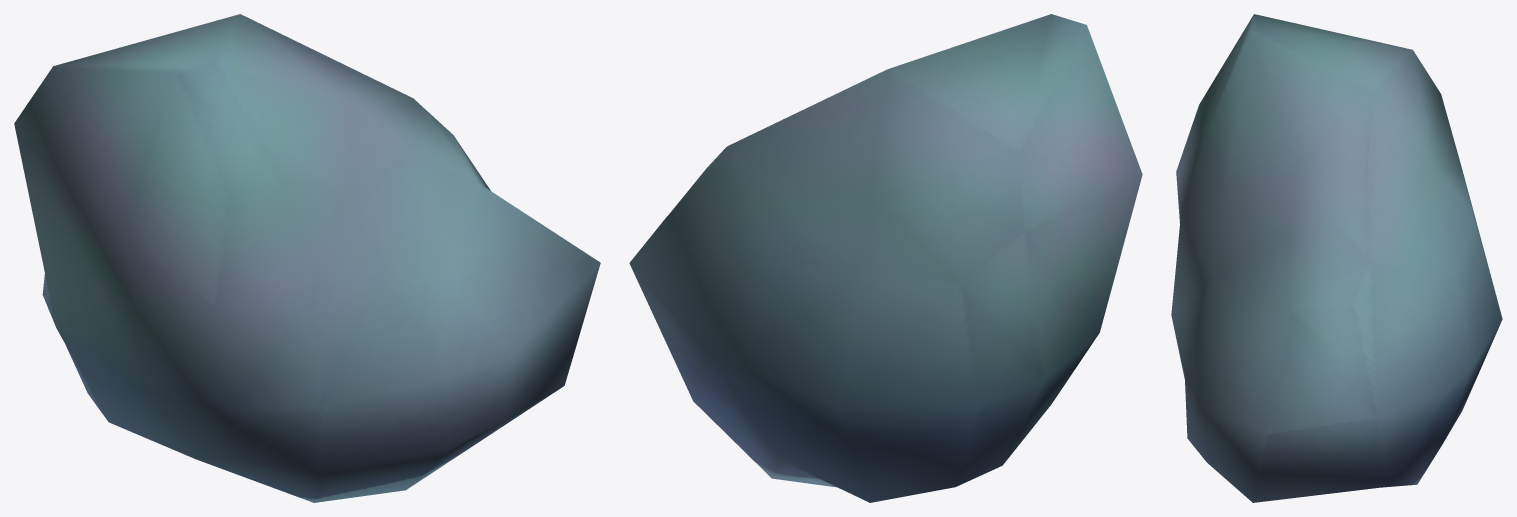
Rendered from Rock2.glb.
The picture shows the model from 3 angles, left to right: view 1: azimuth 30°, elevation 25°; view 2: azimuth 150°, elevation 25°; view 3: azimuth 270°, elevation 25°; orthographic projection. The views are drawn at different scales.
Parts seen in each view (by area): view 1: Rock2; view 2: Rock2; view 3: Rock2.
Boxes of the visible parts, x1,y1,x2,y2 form: Rock2: (14,14,600,502); Rock2: (629,14,1142,502); Rock2: (1171,14,1502,502).
Size of the model in its own units: 1.77 by 1.65 by 1.27.
1 material, 1 textured.
